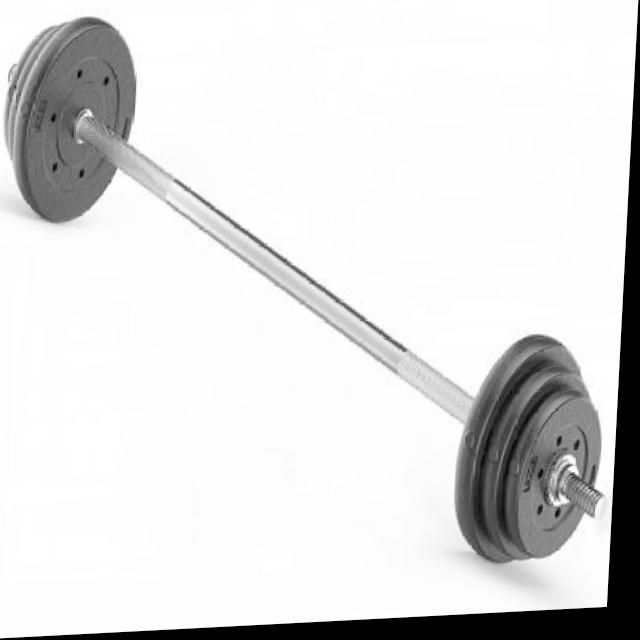barbell: (455, 333, 624, 580)
